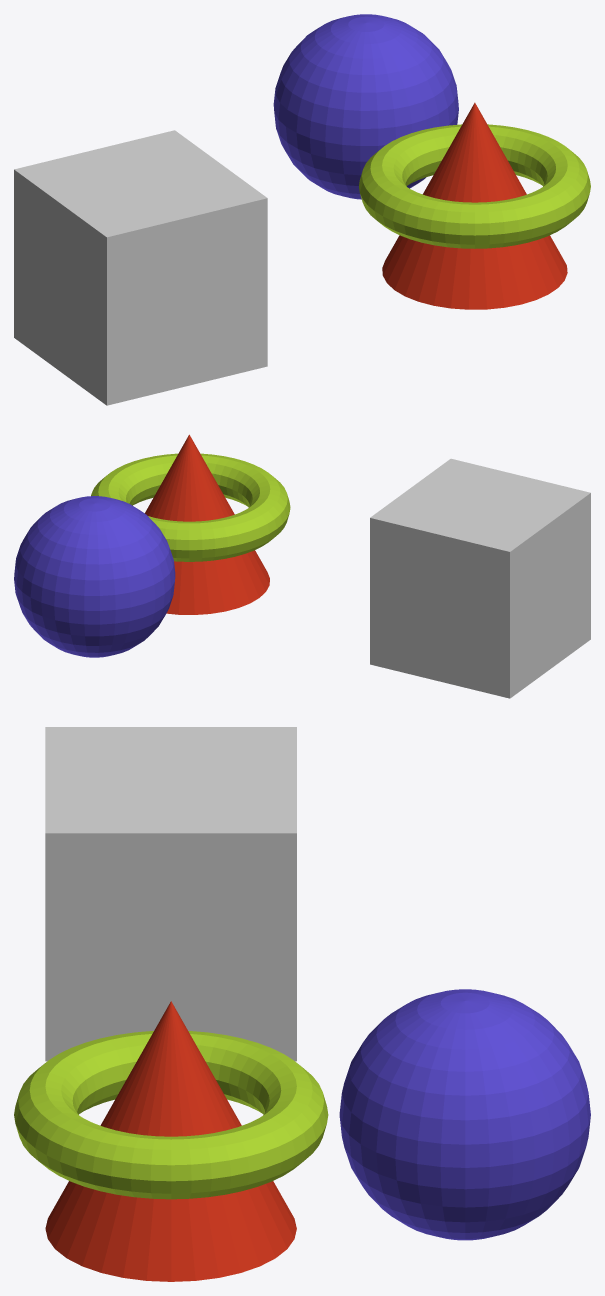
The picture shows the model from 3 angles, top to bottom: view 1: azimuth 30°, elevation 25°; view 2: azimuth 150°, elevation 25°; view 3: azimuth 270°, elevation 25°; orthographic projection. The views are drawn at different scales.
Parts seen in each view (by area): view 1: Cube, Sphere, Torus, Cone; view 2: Cube, Sphere, Torus, Cone; view 3: Cube, Sphere, Torus, Cone.
Boxes of the visible parts, x1,y1,x2,y2 form: Cube: (14,130,267,405); Sphere: (273,14,458,199); Torus: (359,124,590,248); Cone: (382,102,567,309); Cube: (370,458,590,698); Sphere: (14,496,175,657); Torus: (91,453,290,561); Cone: (145,434,269,614); Cube: (45,727,296,1061); Sphere: (339,989,590,1240); Torus: (14,1031,328,1199); Cone: (45,1001,296,1281).
Size of the model in its own units: 6.4 by 4.59 by 2.
